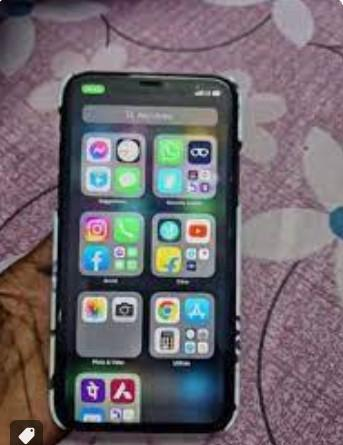Smart Phone: (47, 70, 246, 436)
